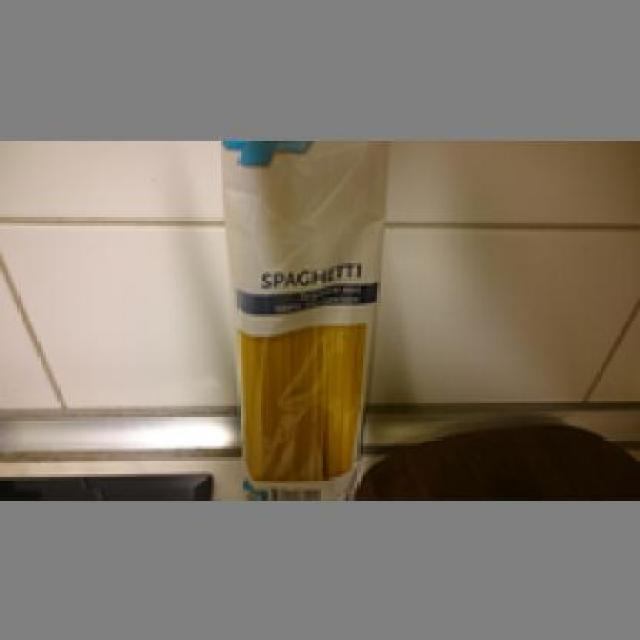Pasta: (214, 137, 386, 497)
